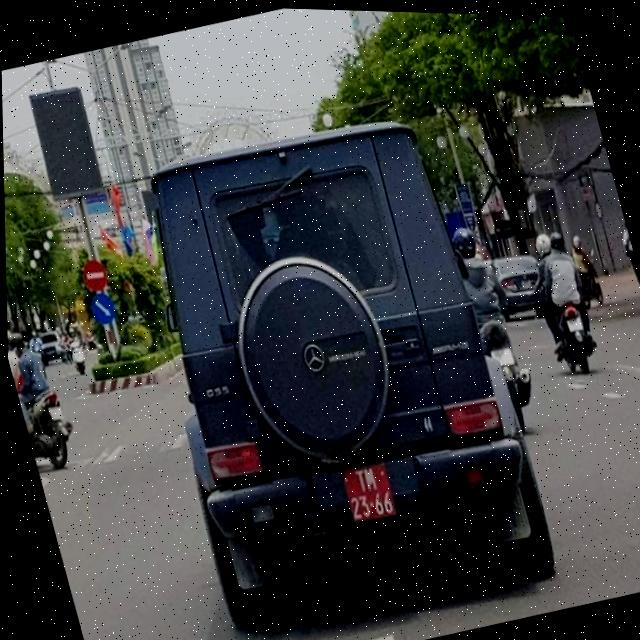car: (111, 98, 565, 640)
motorcycle: (22, 384, 89, 491), (544, 285, 610, 375)
plate: (336, 454, 402, 529)
